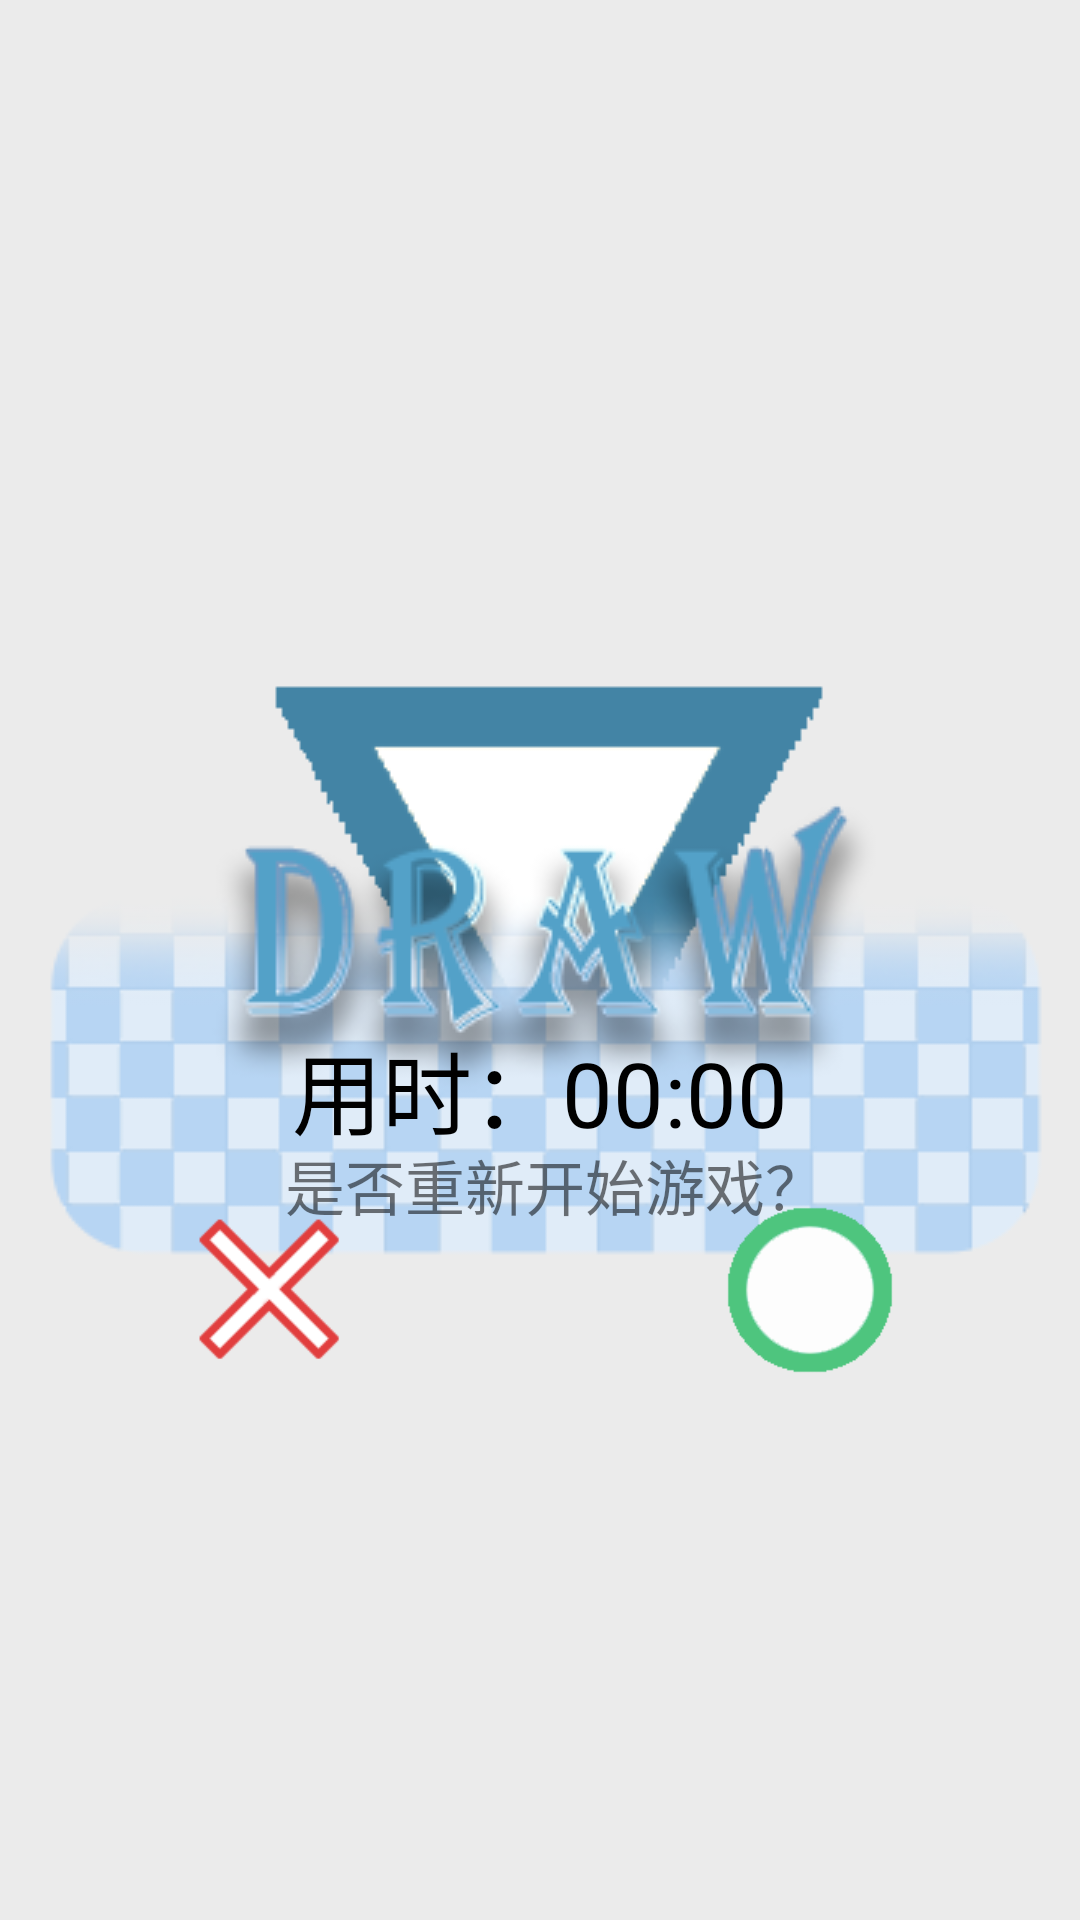

Screen size 1080px×1920px. Icon name, then its center in pixels as point (x, y):
yes: point (810, 1286)
